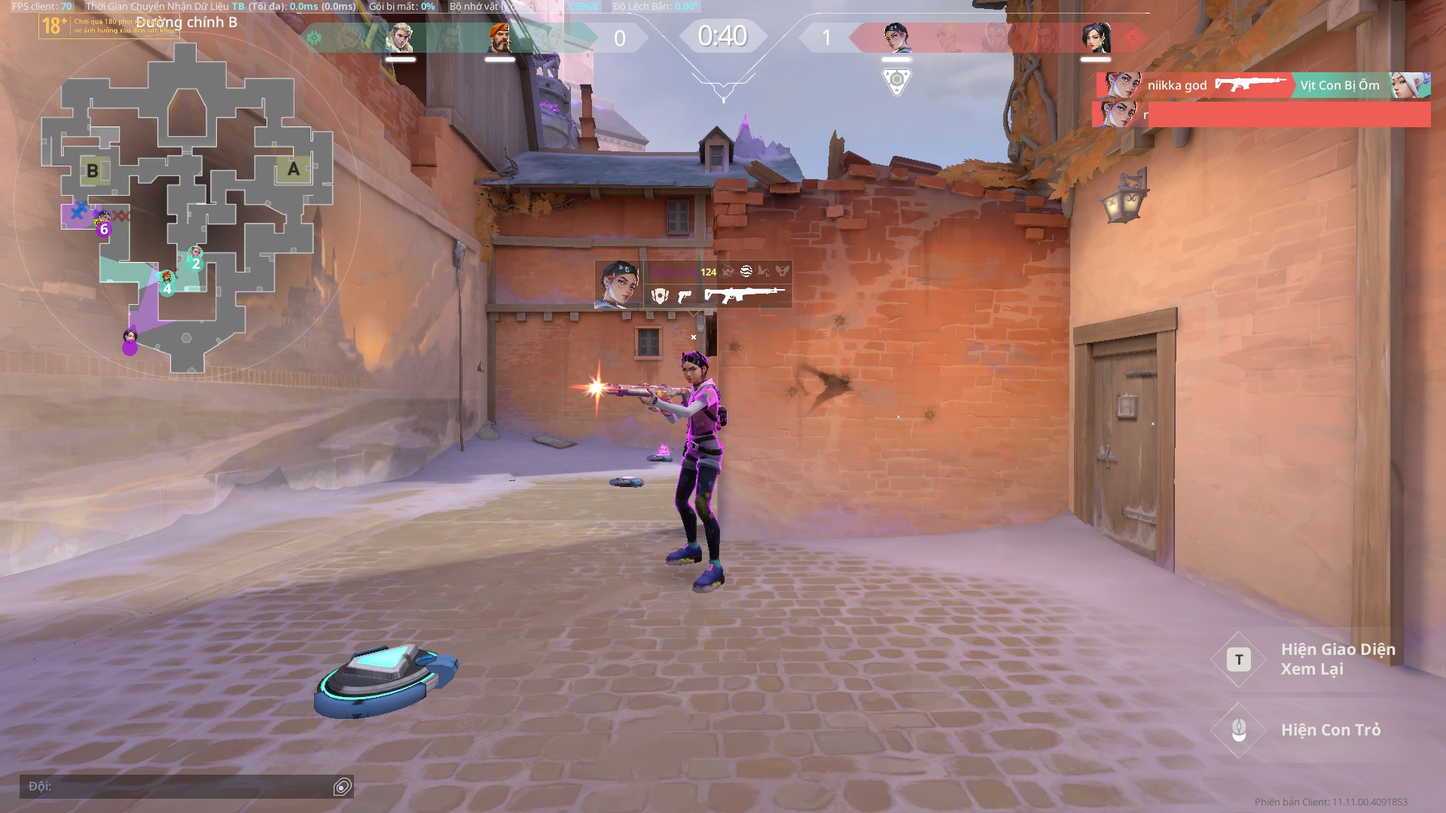body: (684, 376, 724, 437)
head: (679, 352, 707, 382)
